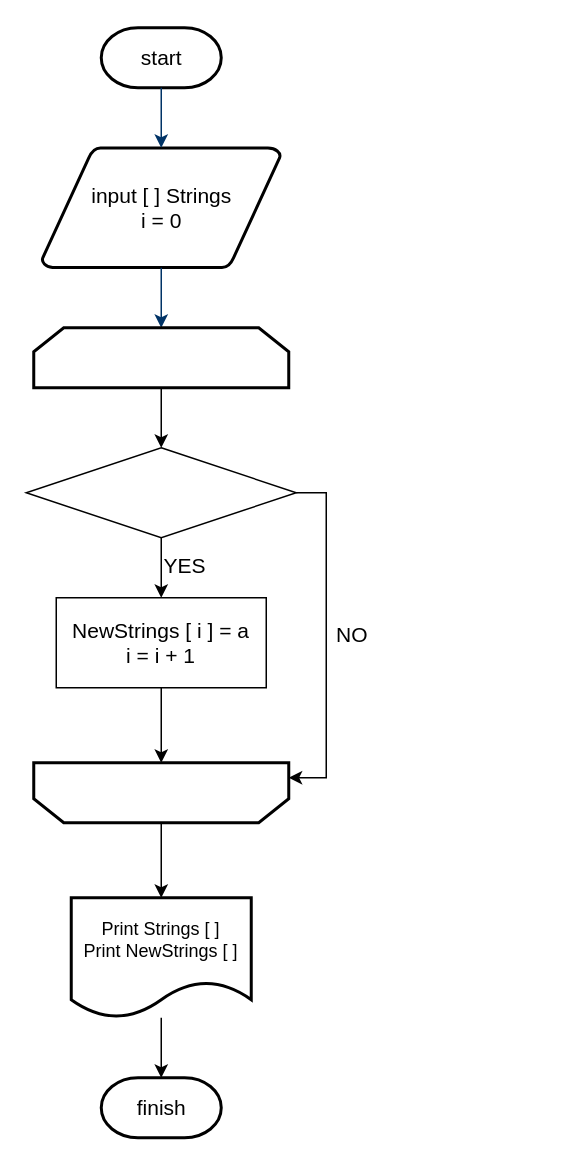
Image size: 585x1164. Some labels were removed from this diagram. Each missing label, with the centre of its shape:
a.Length < = 3: point 160,492
a; strings: point 161,357
